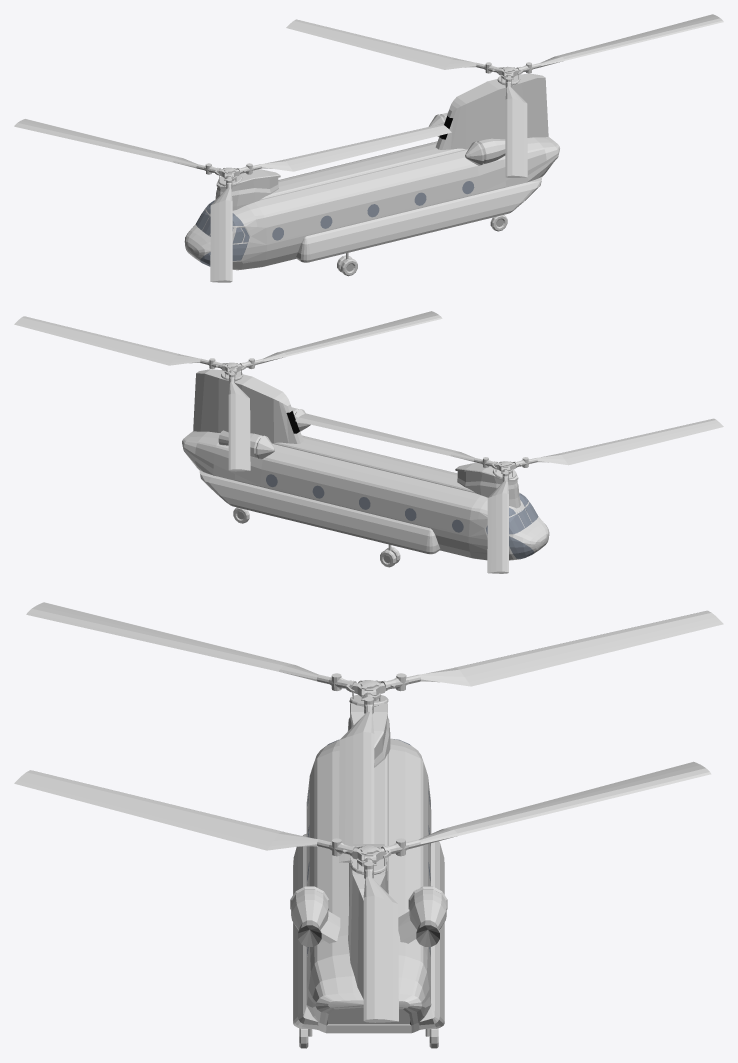
Rendered from ch47_chinook.glb.
3 views of the same model, one above another, from view 1: azimuth 30°, elevation 25°; view 2: azimuth 150°, elevation 25°; view 3: azimuth 270°, elevation 25° (orthographic). The views are drawn at different scales.
Visible parts, largest first — view 1: Fuselage, Blade.22, Blade.11, Blade.13, Blade.23, Blade.21, Blade.12, Wshield, Lengine, Ldoor.glass; view 2: Fuselage, Blade.21, Blade.13, Blade.12, Blade.22, Blade.23, Blade.11, Wshield, Rengine; view 3: Fuselage, Blade.23, Blade.12, Blade.21, Blade.11, Blade.22, Blade.13, Rengine, Lengine, Cargohold, Fuselage.003, Ramp.
Part boxes in pixels (x1,y1,x2,y2): Fuselage: (184,73,559,270); Blade.22: (286,19,502,73); Blade.11: (235,124,451,174); Blade.13: (210,175,236,282); Blade.23: (501,74,527,177); Blade.21: (516,14,723,74); Blade.12: (14,119,222,175); Wshield: (196,181,474,266); Lengine: (465,138,505,165); Ldoor.glass: (232,227,249,260); Fuselage: (182,369,549,560); Blade.21: (14,316,225,368); Blade.13: (512,418,723,467); Blade.12: (487,468,512,573); Blade.22: (224,369,250,471); Blade.23: (239,311,442,370); Blade.11: (295,413,498,468); Wshield: (266,474,538,559); Rengine: (228,433,274,459); Fuselage: (293,694,444,1032); Blade.23: (14,770,358,856); Blade.12: (379,610,723,691); Blade.21: (357,857,398,1022); Blade.11: (339,691,380,862); Blade.22: (379,761,711,857); Blade.13: (26,602,357,692); Rengine: (408,886,447,930); Lengine: (290,886,329,930); Cargohold: (308,827,429,1025); Fuselage.003: (298,925,439,946); Ramp: (326,1024,411,1033).
Bounding box in the file's own units: 25.96 × 5.9 × 16.32.
